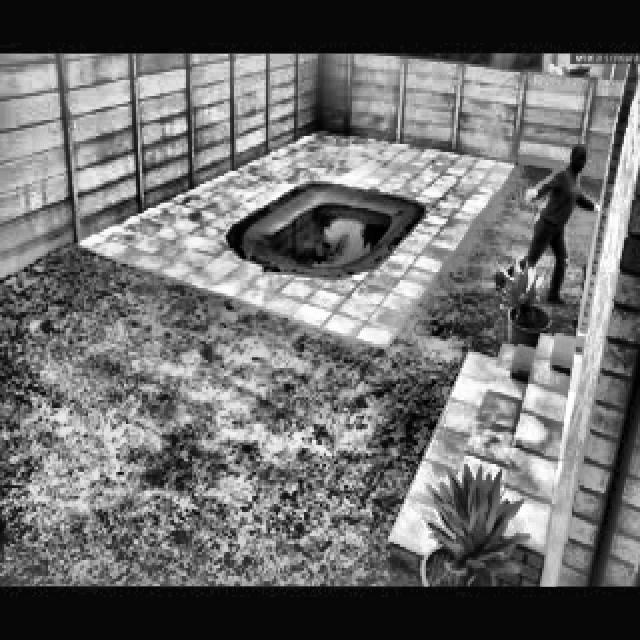burglary: (487, 133, 640, 312)
